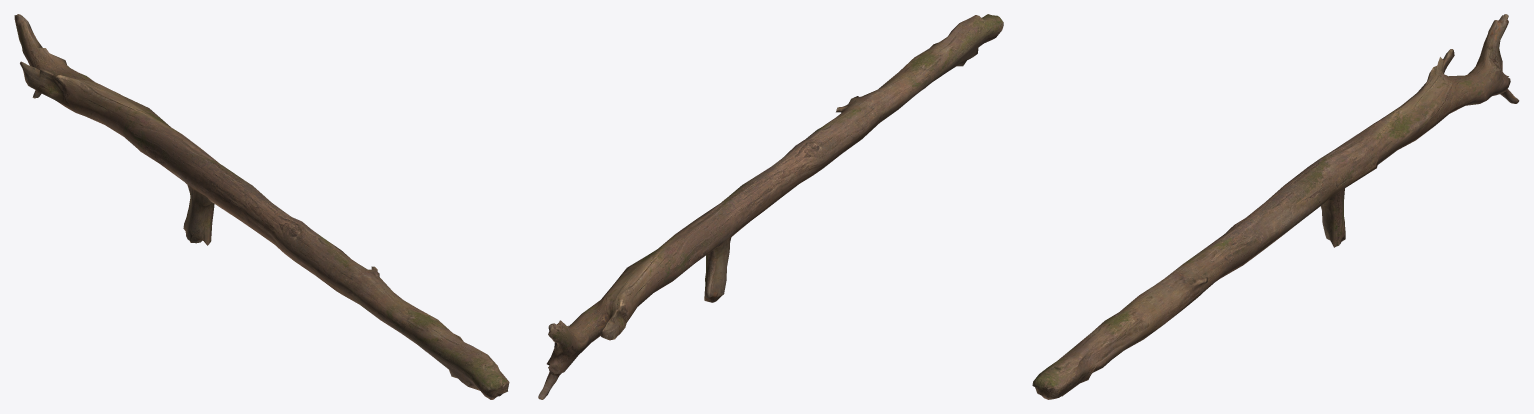
Rendered from raw.glb.
3 renders of one model, left to right at view 1: azimuth 30°, elevation 25°; view 2: azimuth 150°, elevation 25°; view 3: azimuth 330°, elevation 25°, orthographic. The views are drawn at different scales.
Visible parts, largest first — view 1: bang_bang_branch_LOD0; view 2: bang_bang_branch_LOD0; view 3: bang_bang_branch_LOD0.
Boxes of the visible parts, x1,y1,x2,y2 form: bang_bang_branch_LOD0: (14, 14, 509, 399); bang_bang_branch_LOD0: (538, 14, 1003, 399); bang_bang_branch_LOD0: (1032, 14, 1519, 399).
Size of the model in its own units: 0.0864 by 0.1502 by 1.25.
Materials: 1 (1 with a texture image).
